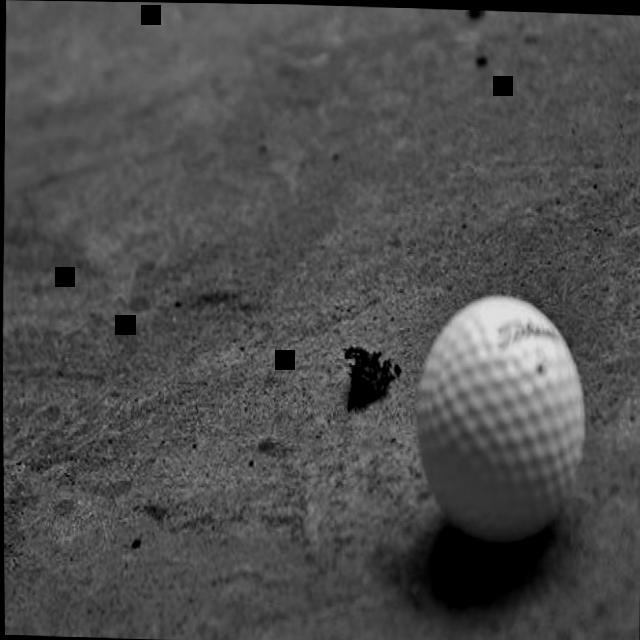golf ball: (417, 271, 589, 549)
